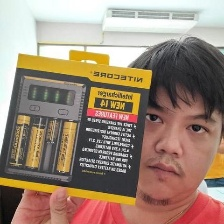book: (0, 50, 152, 206)
